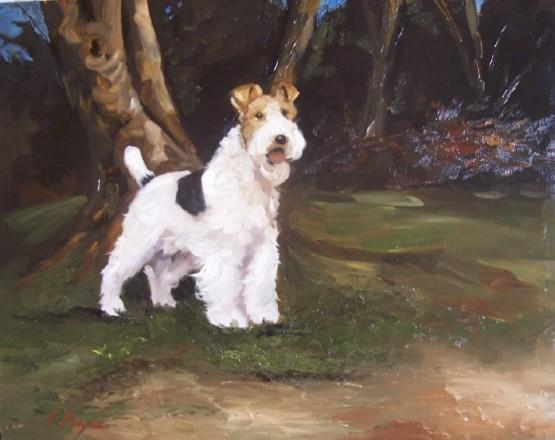wire-haired_fox_terrier: (100, 83, 307, 327)
